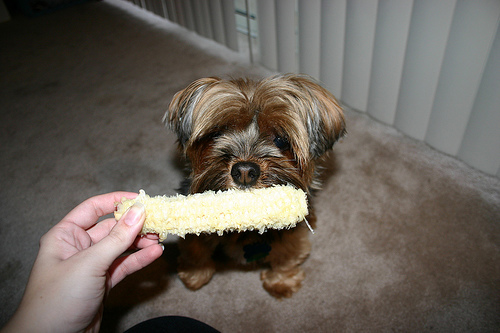corn: (113, 182, 309, 239)
